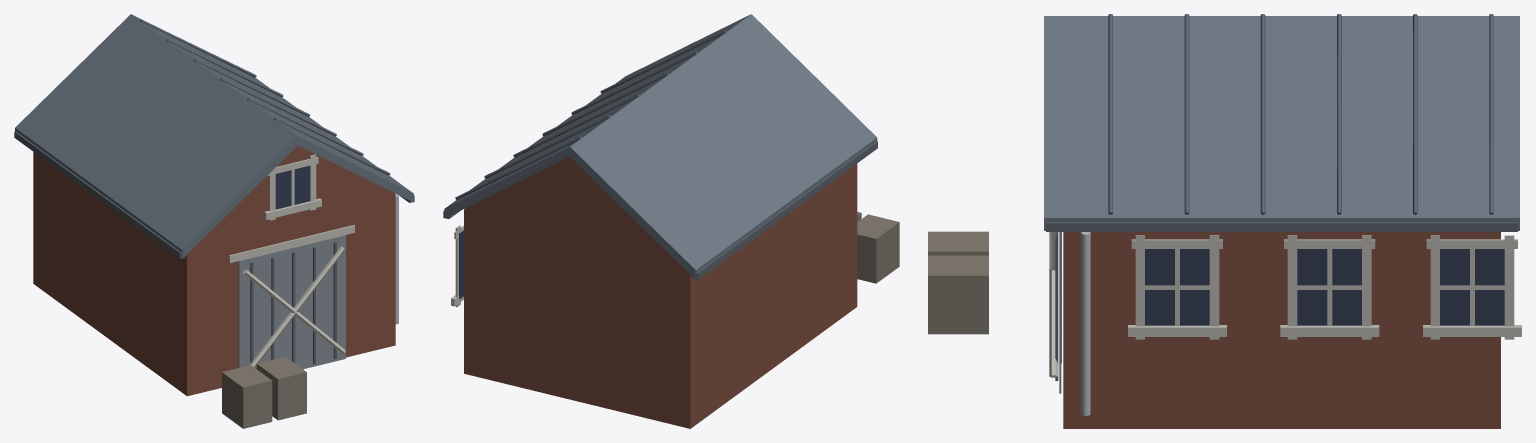
Rendered from farm_building_lvl1.glb.
The picture shows the model from 3 angles, left to right: view 1: azimuth 30°, elevation 25°; view 2: azimuth 150°, elevation 25°; view 3: azimuth 270°, elevation 25°; orthographic projection. The views are drawn at different scales.
Parts seen in each view (by area): view 1: farm_building; view 2: farm_building; view 3: farm_building.
Part boxes in pixels (<box>): farm_building: <box>14,14,414,428</box>; farm_building: <box>443,14,899,428</box>; farm_building: <box>928,14,1521,428</box>.
Bounding box in the file's own units: 0.3582 × 0.3517 × 0.5518.
